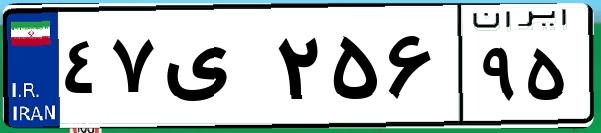2: (270, 28, 330, 110)
4: (57, 26, 110, 100)
5: (330, 28, 385, 110), (525, 38, 570, 115)
6: (385, 28, 445, 110)
7: (110, 28, 158, 98)
9: (475, 38, 525, 113)
ی: (158, 20, 270, 120)
